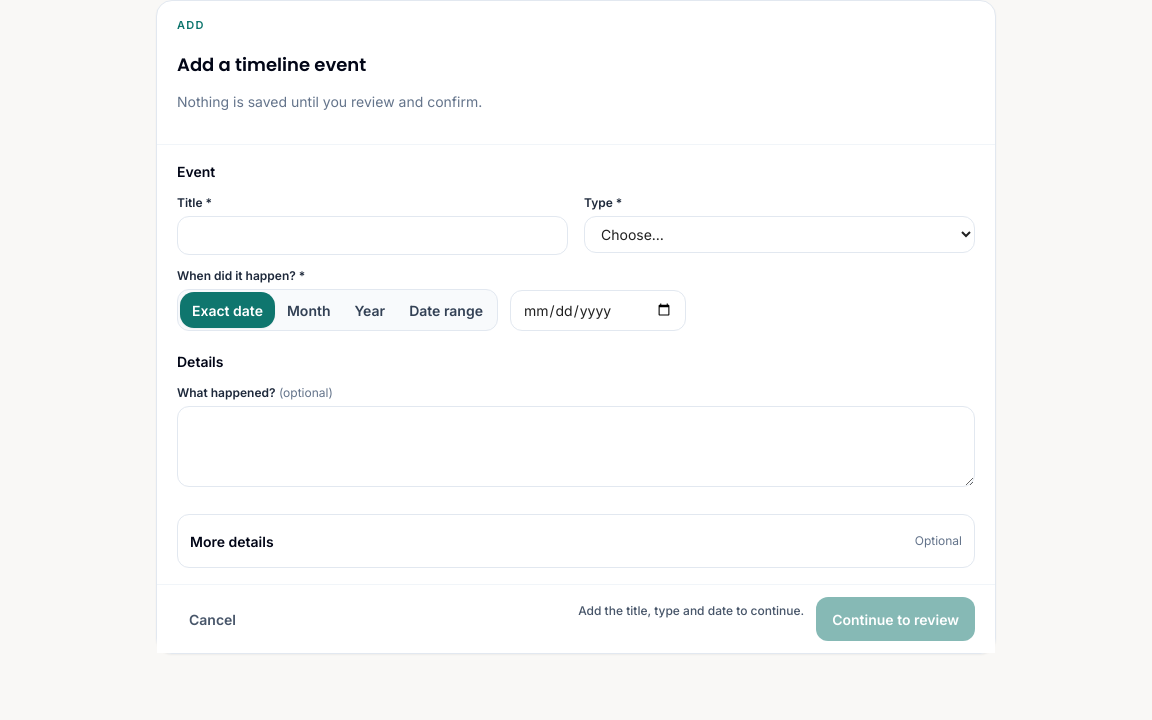
Test: Add event: amount and provider stay hidden until a type that can have them is chosen, and More details starts folded
This screenshot has width=1152, height=720.
Expected: the field labelled "Amount" is not shown
Expected: the field labelled "Provider or contractor" is not shown
Step 1. Select "Note" in the dropdown labelled "Type *" → (780, 235), box top-left (584, 216), bottom-right (975, 253)
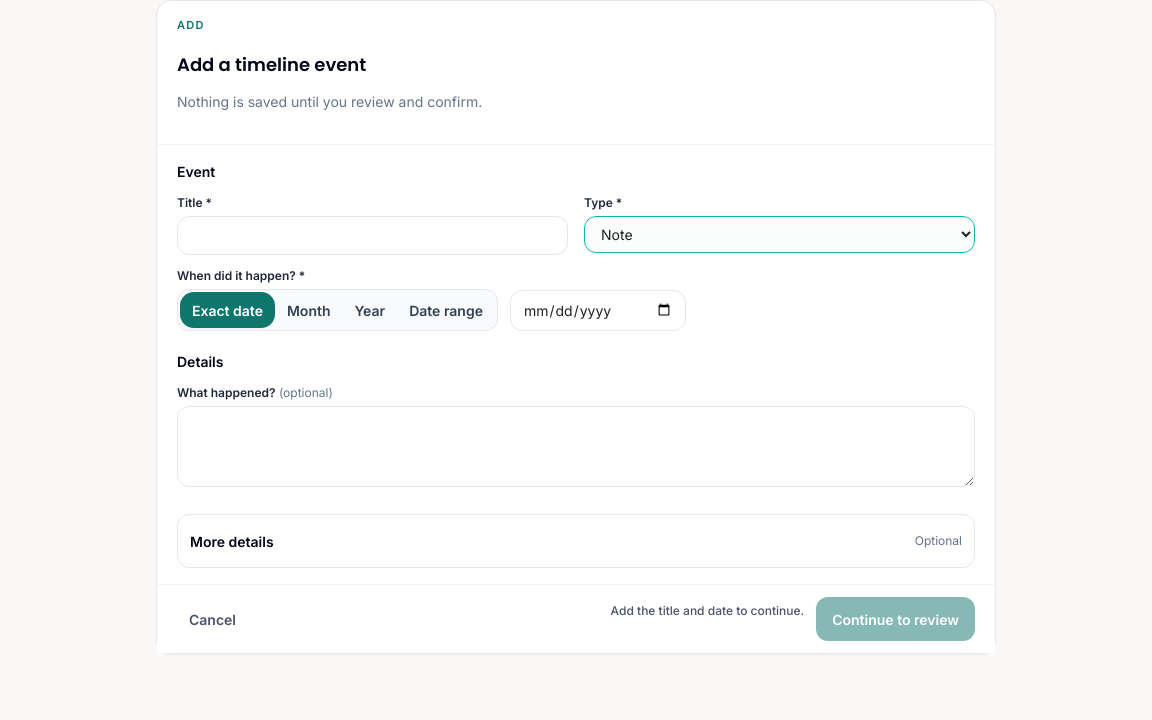
Expected: the field labelled "Amount" is not shown
Step 2. Select "Repair" in the dropdown labelled "Type *" → (780, 235), box top-left (584, 216), bottom-right (975, 253)
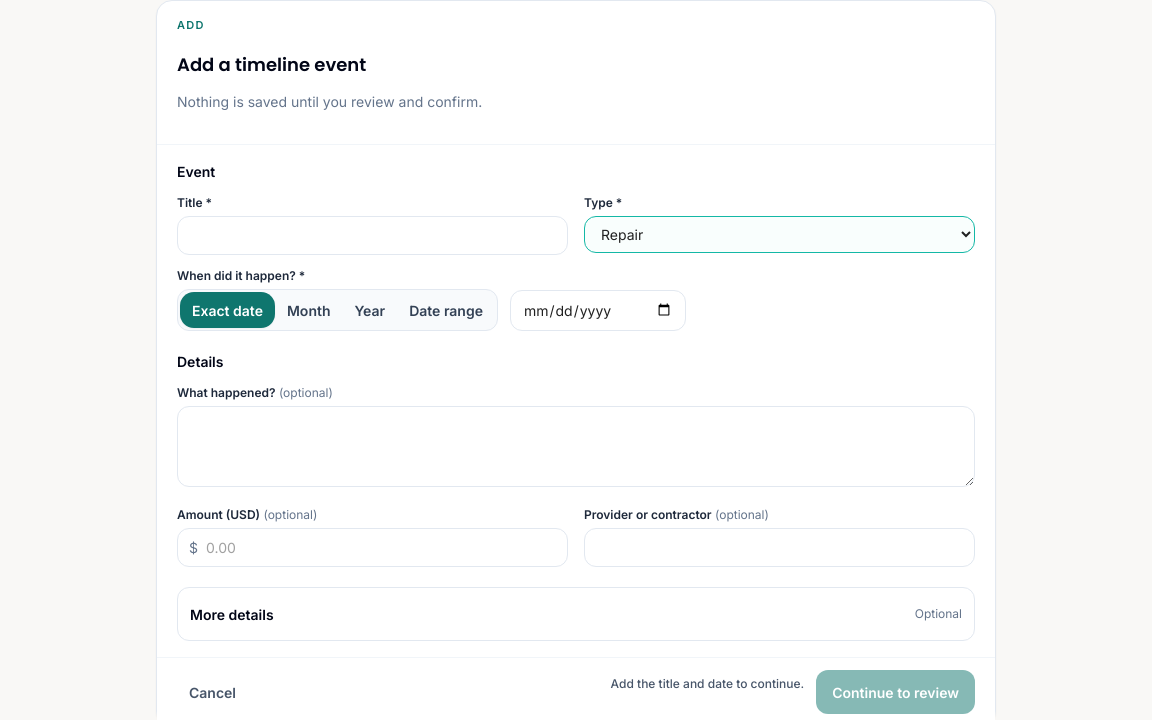
Expected: the field labelled "Amount (USD) (optional)" is shown, top-left (177, 528), bottom-right (568, 567)
Expected: the field labelled "Provider or contractor (optional)" is shown, top-left (584, 528), bottom-right (975, 567)
Expected: the text "$" is shown, top-left (189, 539), bottom-right (198, 556)
